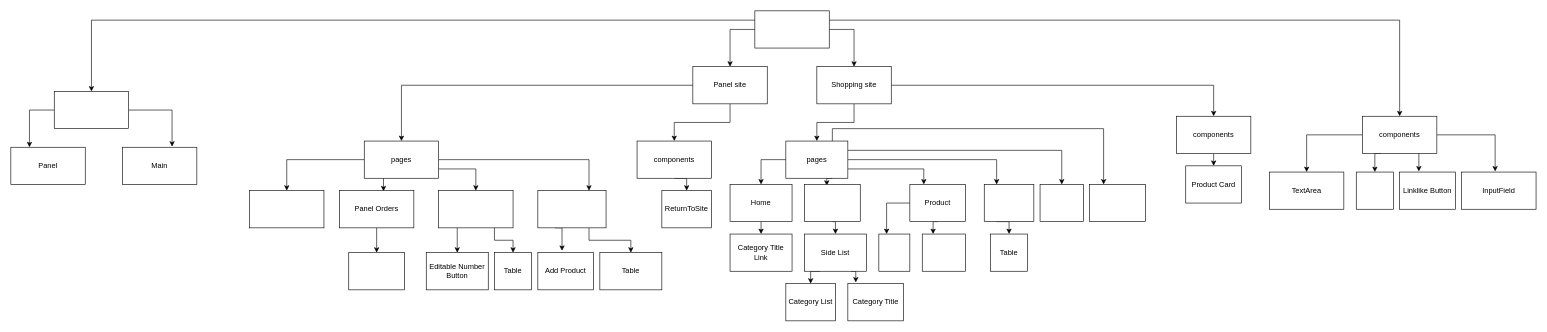
The diagram is 1547 pixels wide and 332 high, and some of its shapes have lost their labels. Each missing label, with the centre of its shape:
App: pixel 791 29
Basket: pixel 1009 203
button: pixel 1374 190
Check Order: pixel 376 271
Checkout: pixel 1061 203
Info: pixel 894 252
Layouts: pixel 91 110
Panel Login: pixel 286 209
Panel Product: pixel 571 209
Panel Quantity: pixel 475 209
Payment Result: pixel 1117 203
Products: pixel 832 203
Showcase: pixel 944 252
